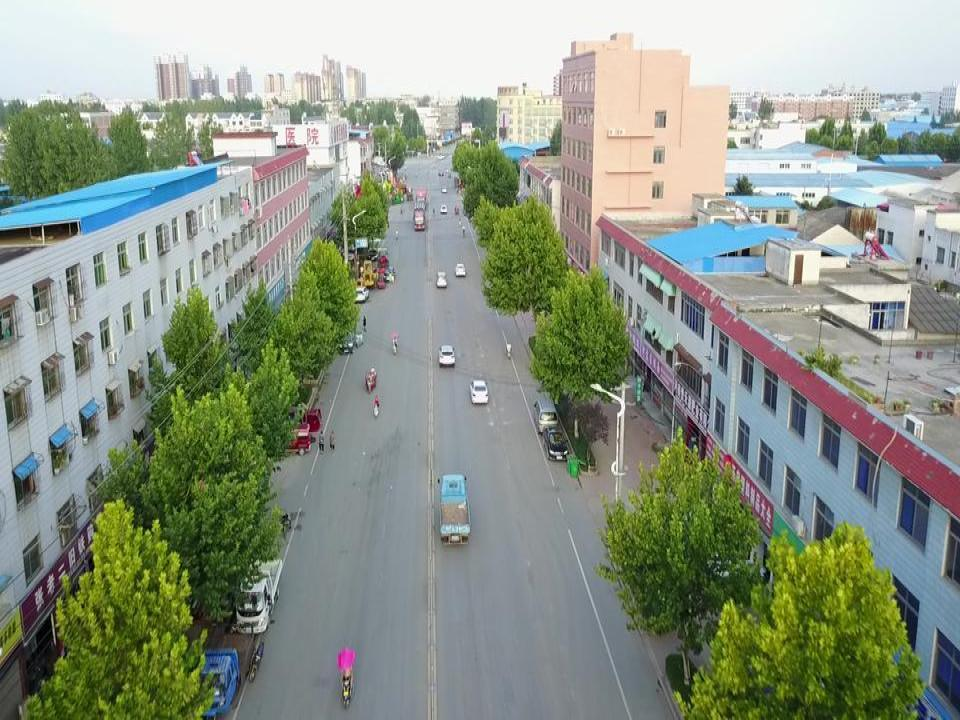car: (542, 424, 570, 461), (470, 380, 488, 405), (438, 344, 455, 367), (353, 286, 369, 302), (436, 272, 446, 289), (454, 263, 466, 277), (384, 267, 395, 281), (368, 248, 379, 261)
truck: (193, 624, 255, 717), (235, 557, 283, 634), (437, 473, 471, 547)
van: (276, 425, 309, 455), (283, 407, 321, 432), (533, 397, 558, 434), (337, 320, 356, 355)
